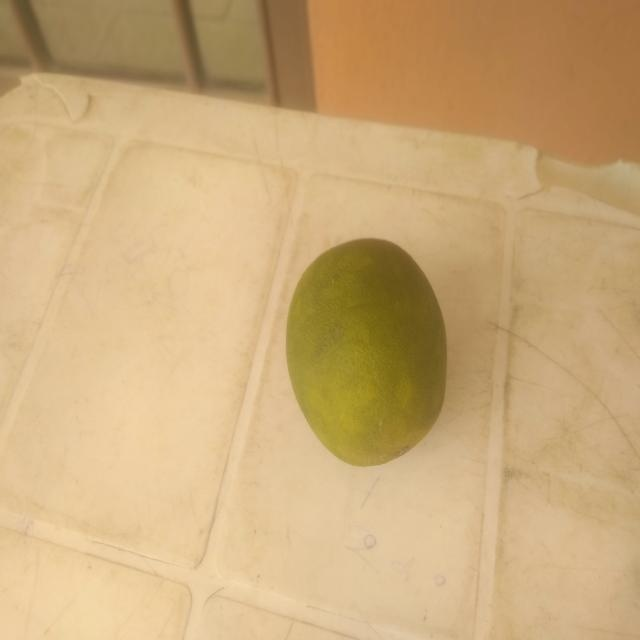agrume: (239, 214, 490, 497)
